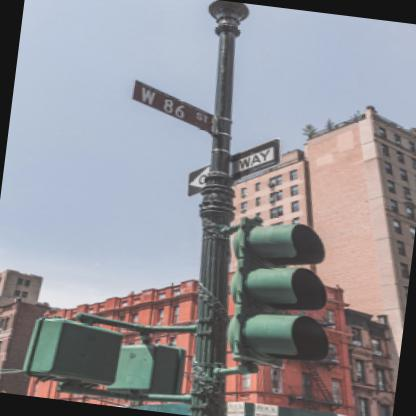trafficlight: (218, 212, 342, 376)
